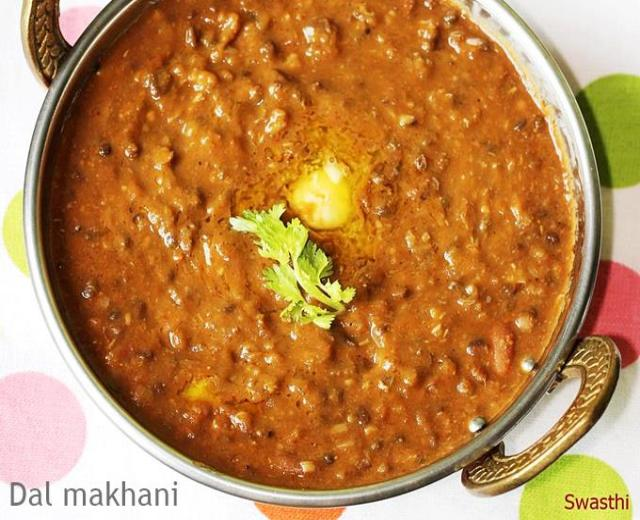dal makhni: (44, 0, 577, 487)
